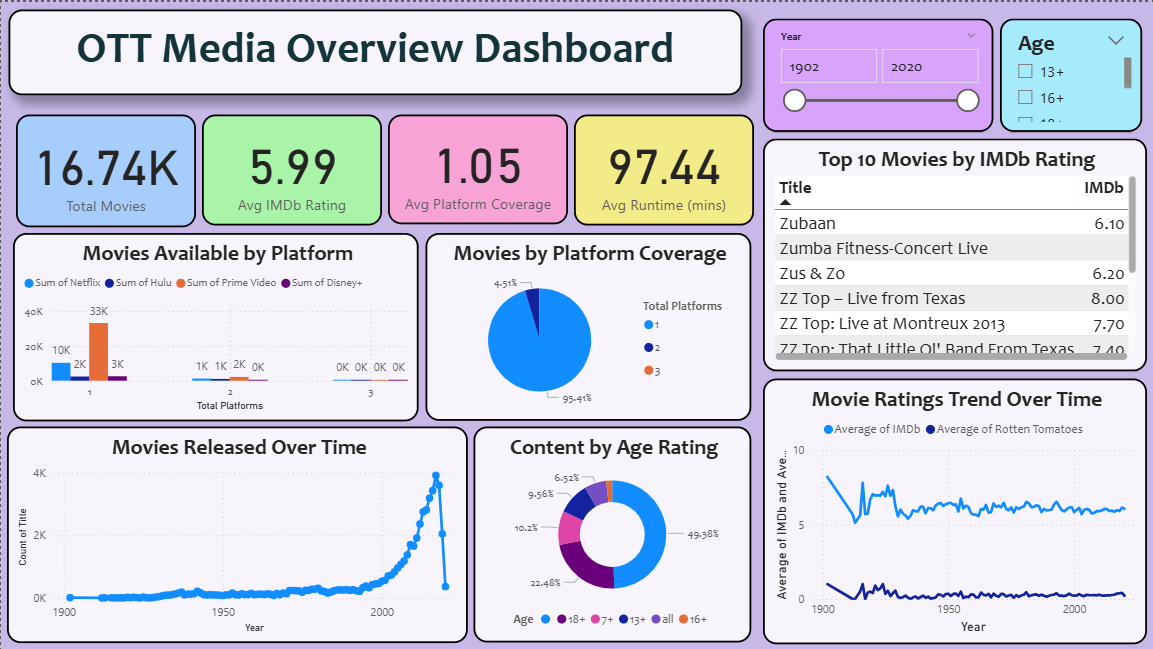

What the dashboard file says about the page in this screenshot:
{"tool":"powerbi","page":{"name":"Overview","canvas":[1280,720],"ordinal":0},"visuals":[{"type":"card","fields":{"Values":["Count(MoviesOnStreamingPlatforms.Title)"]},"box":[16.7,125,200,125],"z":0},{"type":"card","fields":{"Values":["Avg(MoviesOnStreamingPlatforms.IMDb)"]},"box":[223.3,125,200,123.3],"z":1000},{"type":"card","fields":{"Values":["Avg(MoviesOnStreamingPlatforms.Total Platforms)"]},"box":[430,125,200,121.7],"z":2000},{"type":"card","fields":{"Values":["Avg(MoviesOnStreamingPlatforms.Runtime)"]},"box":[636.7,125,200,123.3],"z":3000},{"type":"clusteredColumnChart","title":"Movies Available by Platform","fields":{"Category":["MoviesOnStreamingPlatforms.Total Platforms"],"Y":["Sum(MoviesOnStreamingPlatforms.Netflix)","Sum(MoviesOnStreamingPlatforms.Hulu)","Sum(MoviesOnStreamingPlatforms.Prime Video)","Sum(MoviesOnStreamingPlatforms.Disney+)"]},"box":[13.6,256.4,450.9,209.1],"z":4000},{"type":"pieChart","title":"Movies by Platform Coverage","fields":{"Y":["CountNonNull(MoviesOnStreamingPlatforms.Title)"],"Category":["MoviesOnStreamingPlatforms.Total Platforms"]},"box":[471.7,256.7,361.7,208.3],"z":5000},{"type":"lineChart","title":"Movies Released Over Time","fields":{"Y":["CountNonNull(MoviesOnStreamingPlatforms.Title)"],"Category":["MoviesOnStreamingPlatforms.Year"]},"box":[7.1,472.1,512.1,240.7],"z":6000},{"type":"donutChart","title":"Content by Age Rating","fields":{"Y":["CountNonNull(MoviesOnStreamingPlatforms.Title)"],"Category":["MoviesOnStreamingPlatforms.Age"]},"box":[525,471.7,308.3,240],"z":7000},{"type":"tableEx","title":"Top 10 Movies by IMDb Rating","fields":{"Values":["MoviesOnStreamingPlatforms.Title","MoviesOnStreamingPlatforms.IMDb"]},"box":[846.7,151.7,426.7,258.3],"z":8000},{"type":"lineChart","title":"Movie Ratings Trend Over Time","fields":{"Category":["MoviesOnStreamingPlatforms.Year"],"Y":["Avg(MoviesOnStreamingPlatforms.IMDb)","Avg(MoviesOnStreamingPlatforms.Rotten Tomatoes)"]},"box":[846.7,418.3,426.7,295],"z":9000},{"type":"slicer","fields":{"Values":["MoviesOnStreamingPlatforms.Year"]},"box":[846,18,256,126],"z":10000},{"type":"slicer","fields":{"Values":["MoviesOnStreamingPlatforms.Age"]},"box":[1110,18,158,126],"z":11000},{"type":"textbox","box":[8.3,8.3,815,95],"z":12000}]}

Visuals, with their boxes in screenshot pixels (x1, y1, x2, y2), scaled from the page's 1280x720 canvas onto the 1153x649 screenshot:
card - Count(MoviesOnStreamingPlatforms.Title): 15:113:195:225
card - Avg(MoviesOnStreamingPlatforms.IMDb): 201:113:381:224
card - Avg(MoviesOnStreamingPlatforms.Total Platforms): 387:113:567:222
card - Avg(MoviesOnStreamingPlatforms.Runtime): 574:113:754:224
"Movies Available by Platform" clusteredColumnChart: 12:231:418:420
"Movies by Platform Coverage" pieChart: 425:231:751:419
"Movies Released Over Time" lineChart: 6:426:468:643
"Content by Age Rating" donutChart: 473:425:751:642
"Top 10 Movies by IMDb Rating" tableEx: 763:137:1147:370
"Movie Ratings Trend Over Time" lineChart: 763:377:1147:643
slicer - MoviesOnStreamingPlatforms.Year: 762:16:993:130
slicer - MoviesOnStreamingPlatforms.Age: 1000:16:1142:130
textbox: 7:7:742:93
